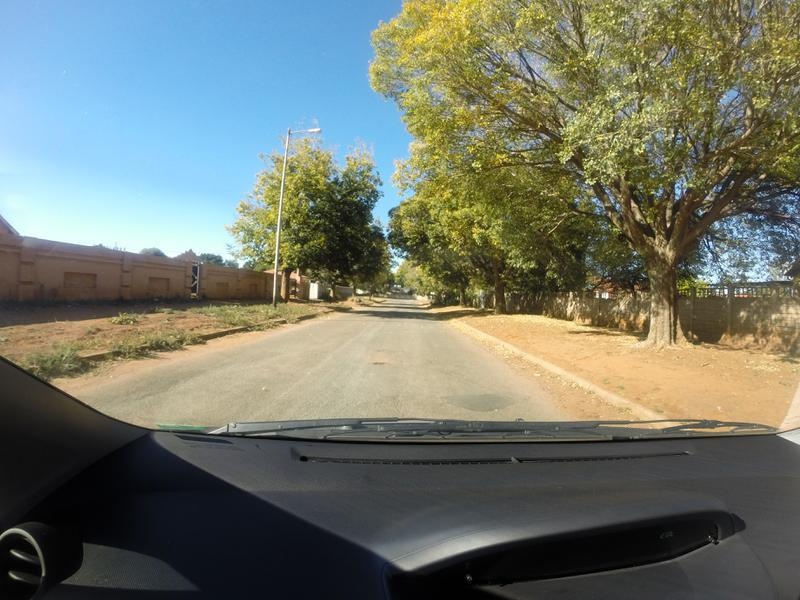pothole: (349, 338, 415, 370)
